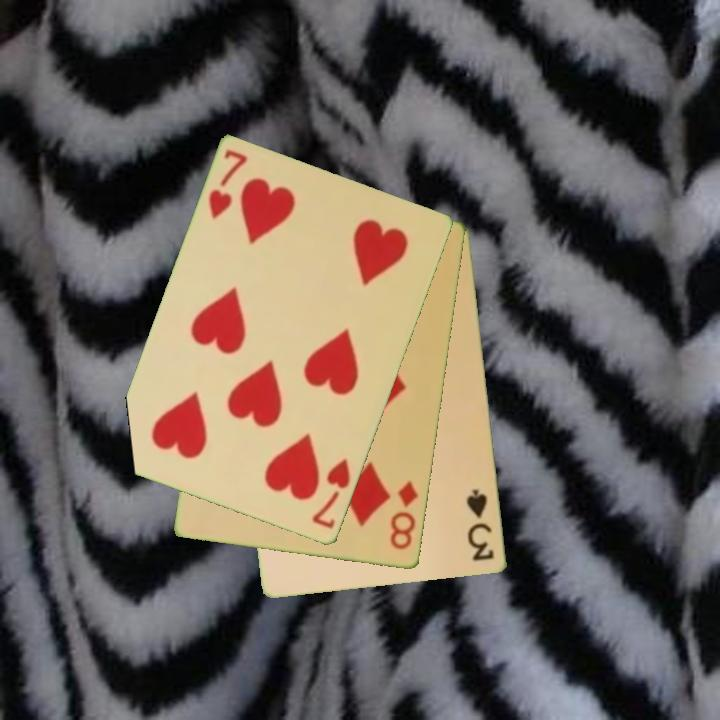3s: (463, 486, 498, 565)
7h: (308, 455, 354, 532), (205, 146, 251, 223)
8d: (387, 477, 422, 553)
